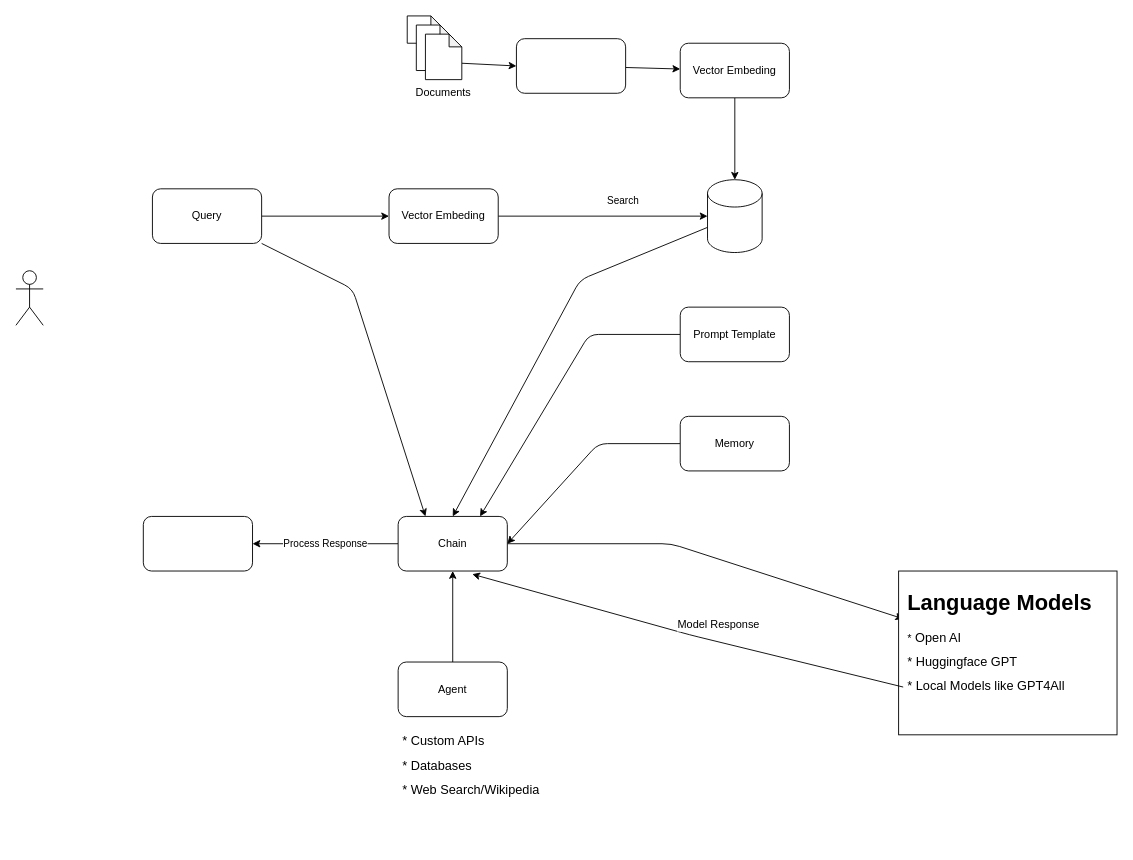
The diagram is 1133 pixels wide and 860 high, and some of its shapes have lost their labels. The box of each missing label's shape, as (x1, y1, x2, y2) in pixels:
Actor: (15, 270, 43, 325)
Response: (142, 516, 253, 571)
Text Splitter: (516, 38, 626, 93)
Vector Store: (707, 179, 762, 253)
